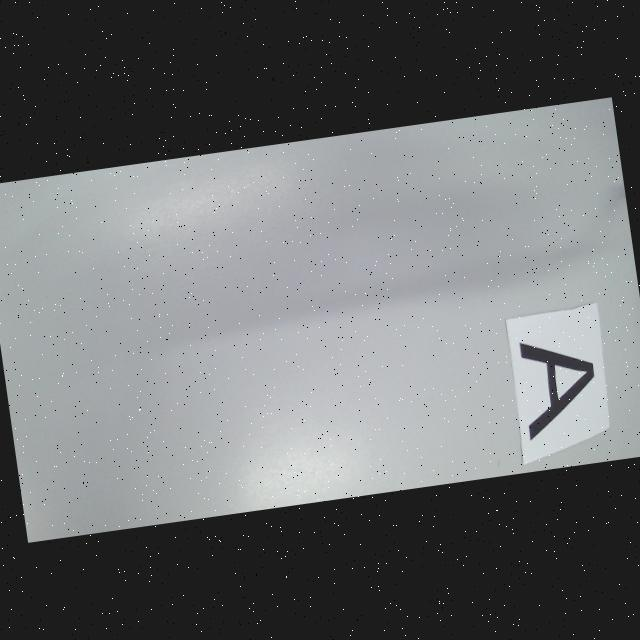FAKE: (516, 334, 603, 441)
